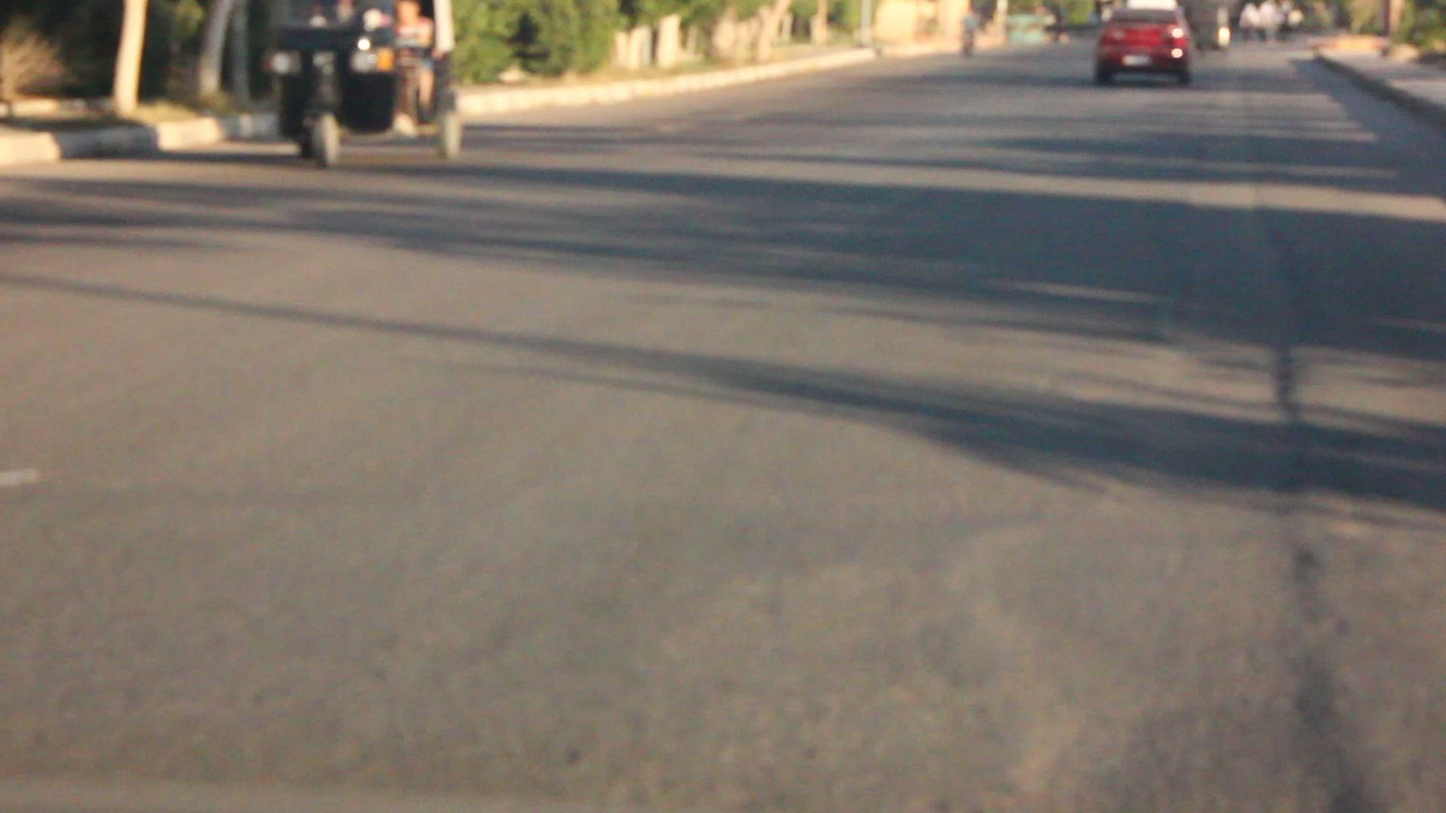Bump: (1004, 199, 1331, 792)
